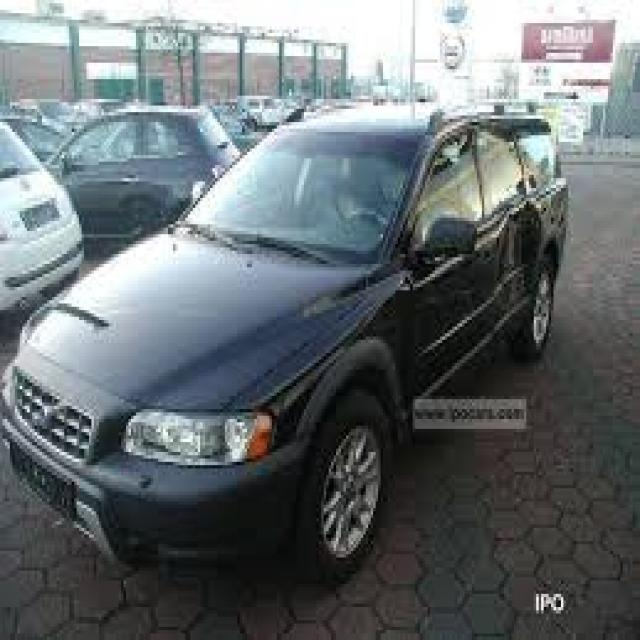moderate: (485, 118, 544, 283)
